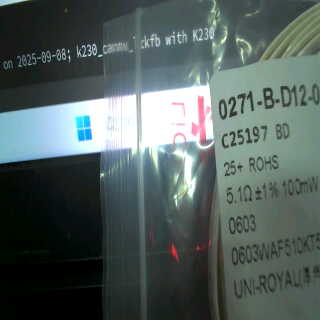5.1R: (222, 182, 252, 208)
